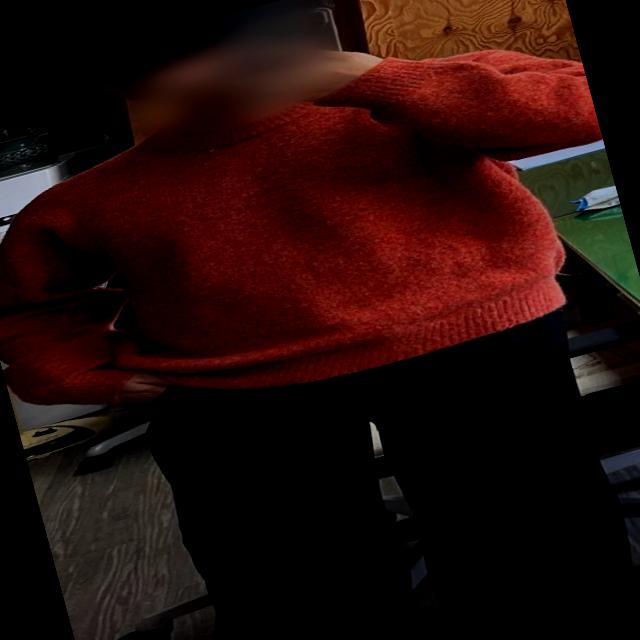slacks: (123, 271, 638, 640)
sweater: (0, 15, 640, 466)
